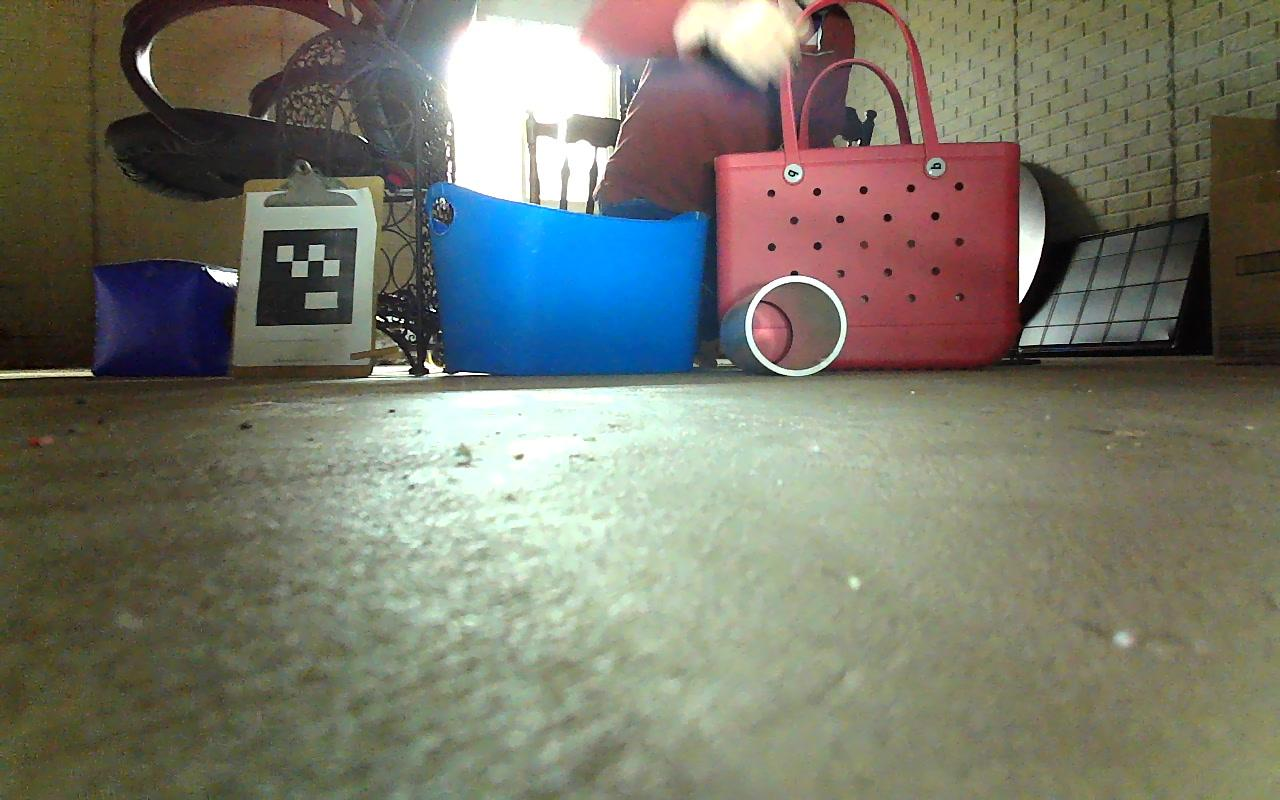coral: (740, 274, 846, 375)
